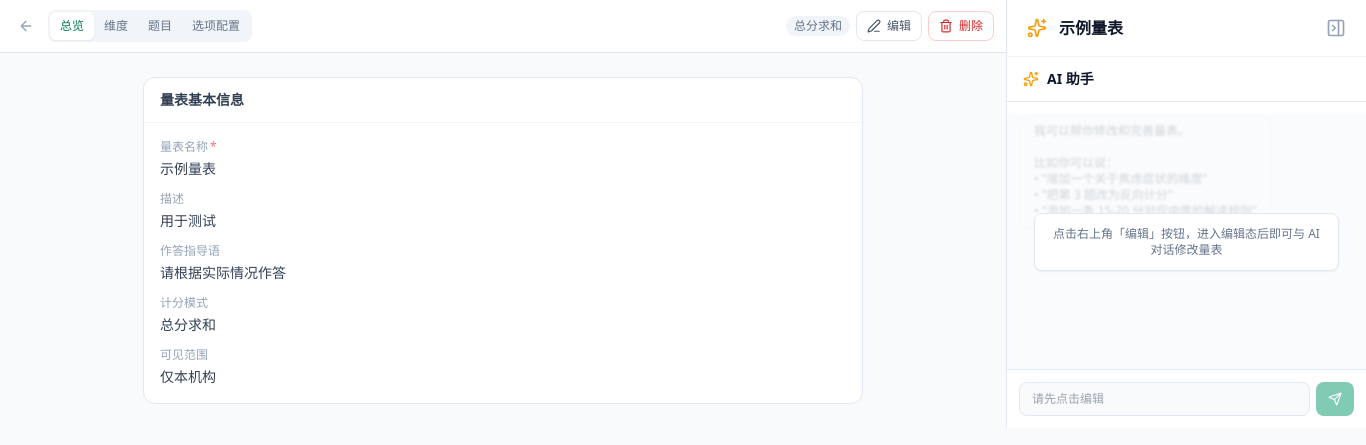
Test: ScaleDetail — pre-split characterization › switching subtabs changes visible content (overview → dimensions → items → options)
Expected: the text "示例量表" is shown, [160, 159, 216, 178]
Click the button "维度".
click(116, 26)  # box [94, 12, 138, 40]
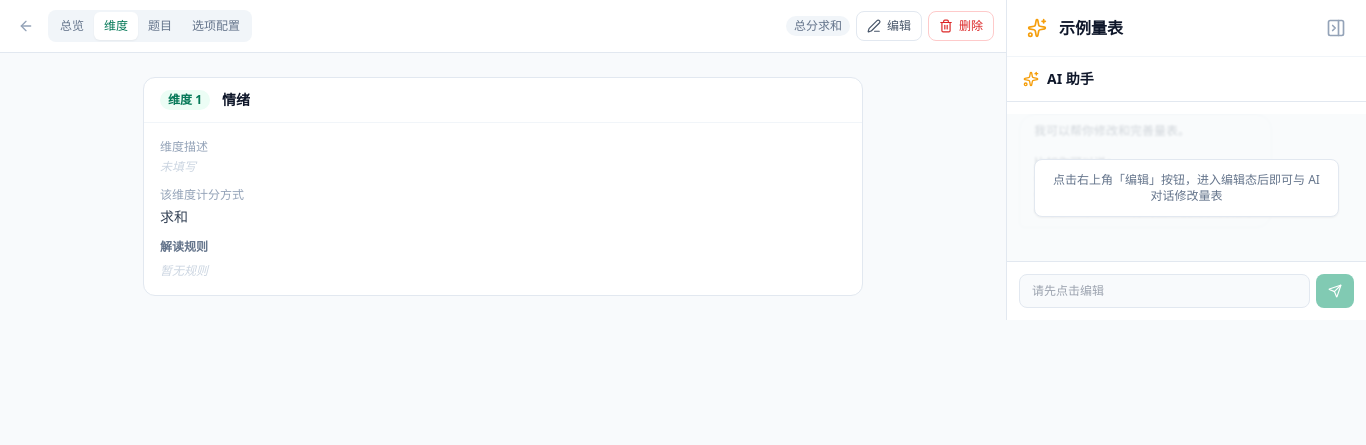
Now the text "情绪" is shown, box [222, 90, 250, 109]
Click the button "题目".
click(160, 26)  # box [138, 12, 182, 40]
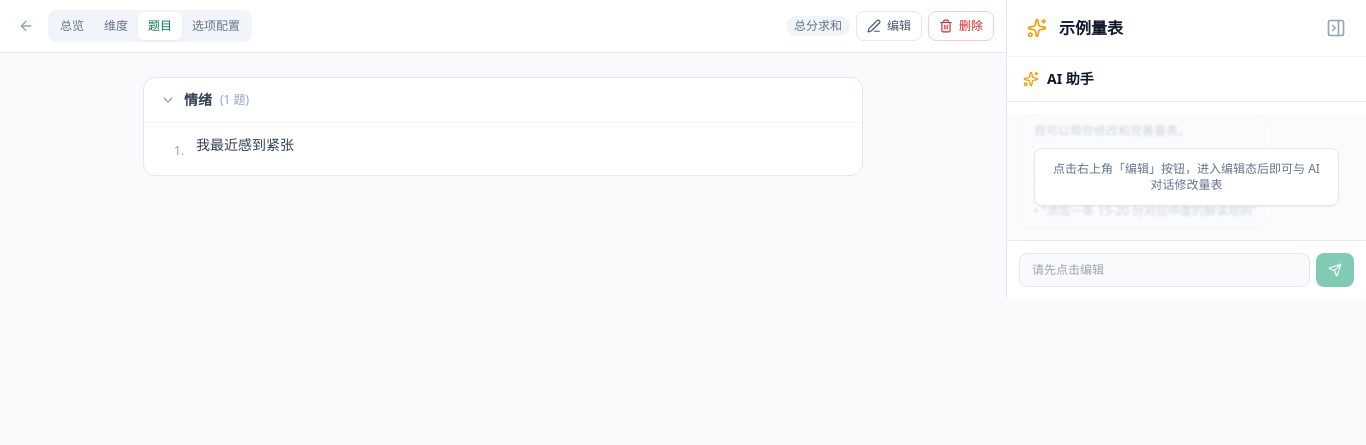
Now the text "我最近感到紧张" is shown, box [196, 135, 294, 154]
Click the button "选项配置".
click(216, 26)  # box [182, 12, 250, 40]
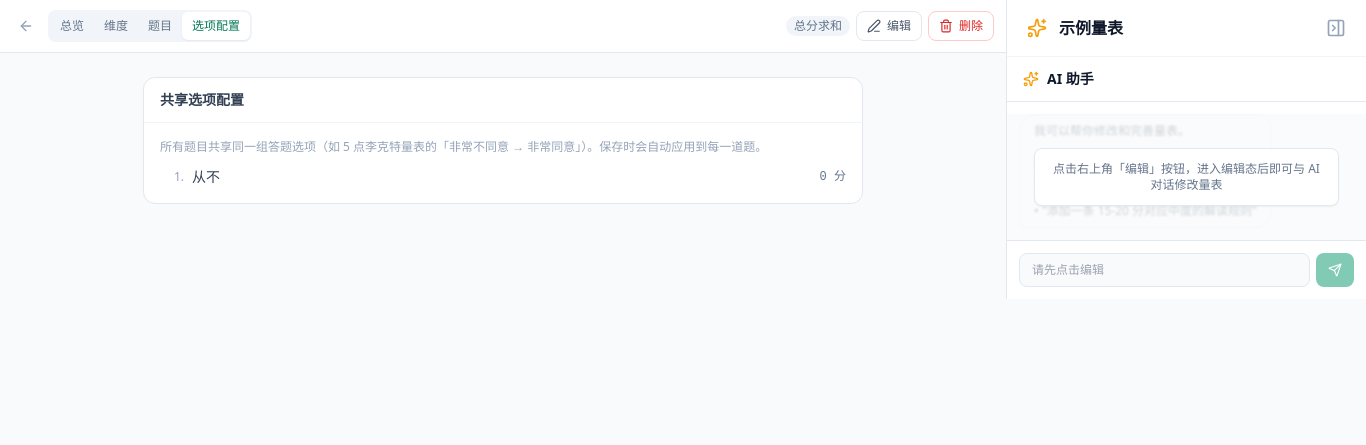
Now the text "从不" is shown, box [192, 167, 220, 186]
